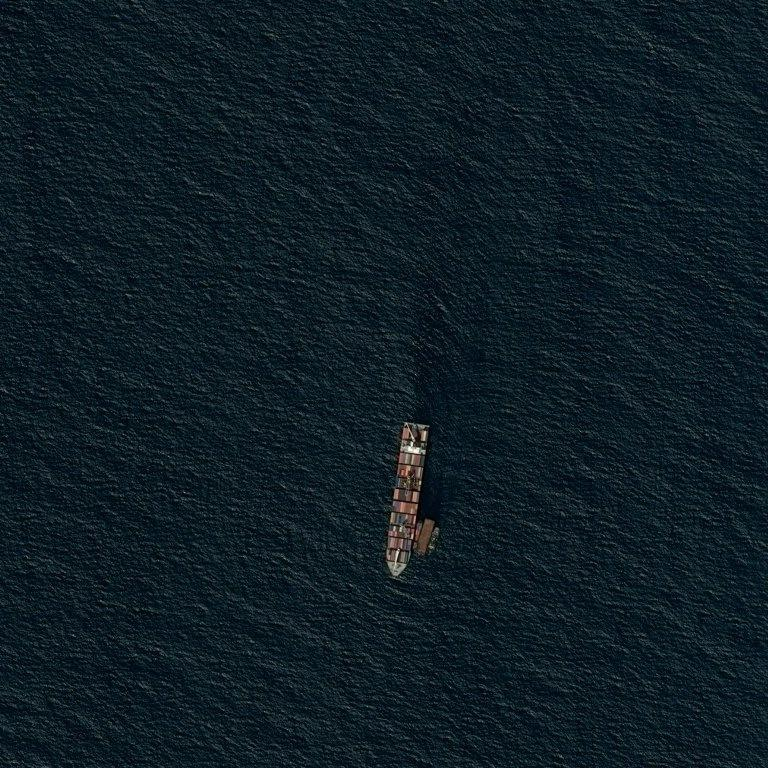ship: (380, 420, 434, 579), (391, 565, 400, 576), (388, 426, 395, 433), (424, 429, 429, 436)
